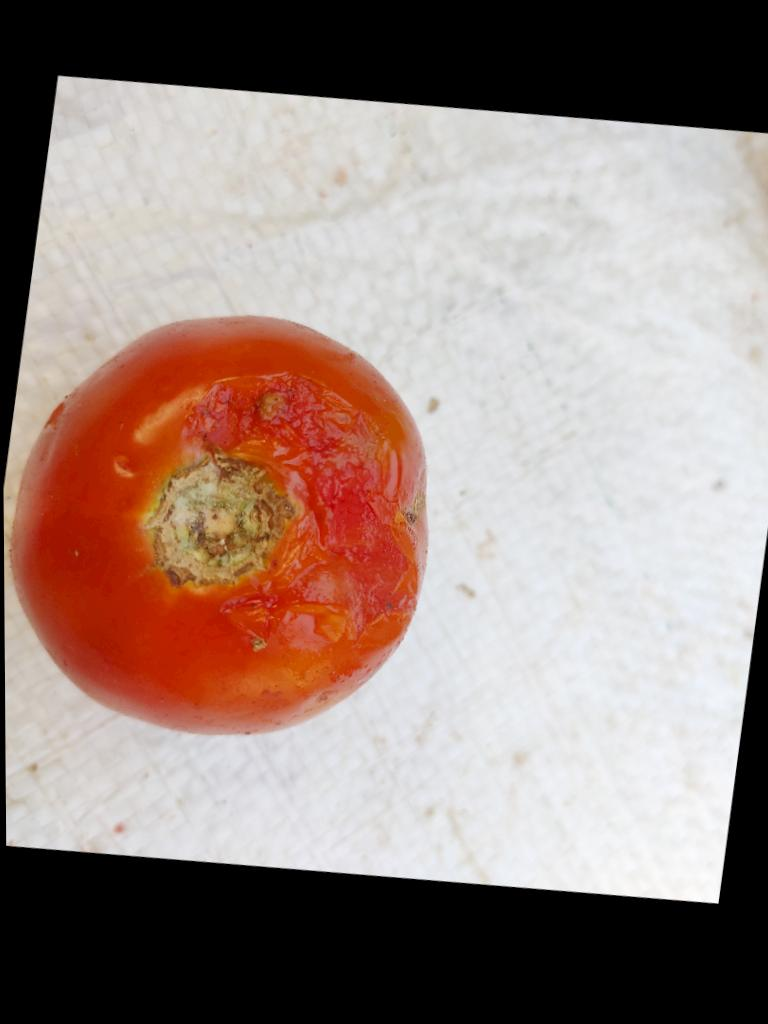surface_damage: (192, 374, 412, 643)
tomato: (12, 316, 428, 733)
